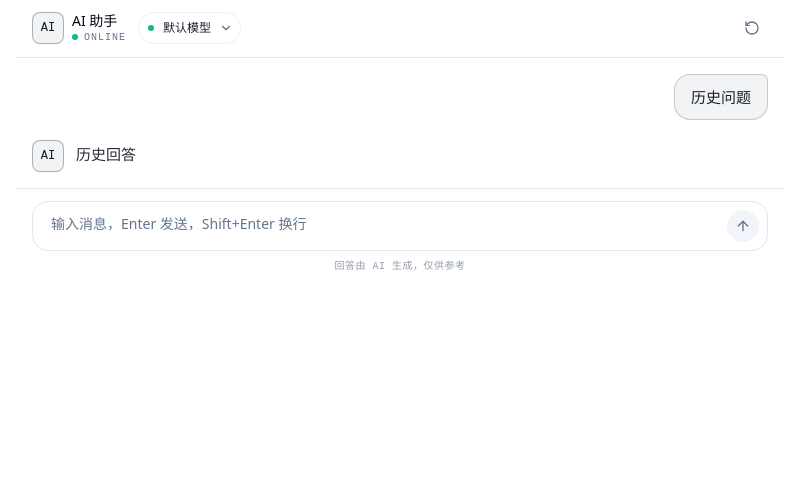
Test: AssistantChat › 清空 → 调 delete-conversation 并回到空状态
The width and height of the screenshot is (801, 480).
Expected: the text "历史回答" is shown, [76,144,136,164]
Click the button named "清空对话": (752, 28) [736,12,768,44]
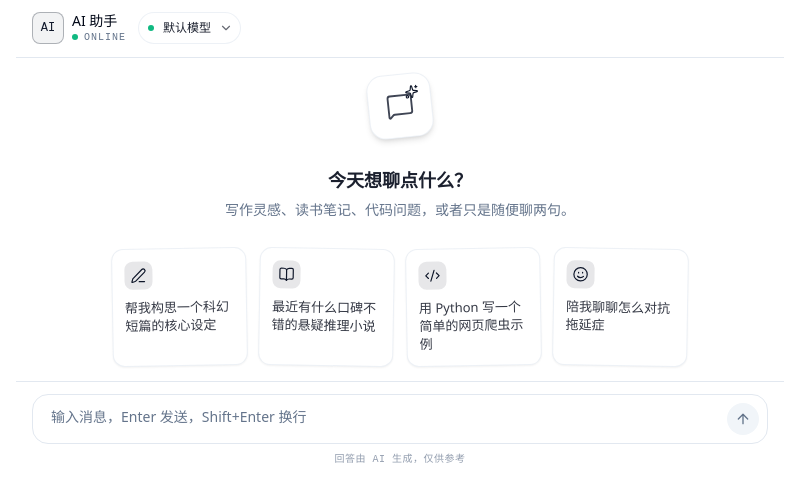
Result: the text "今天想聊点什么？" is shown at [328,168,472,192]
